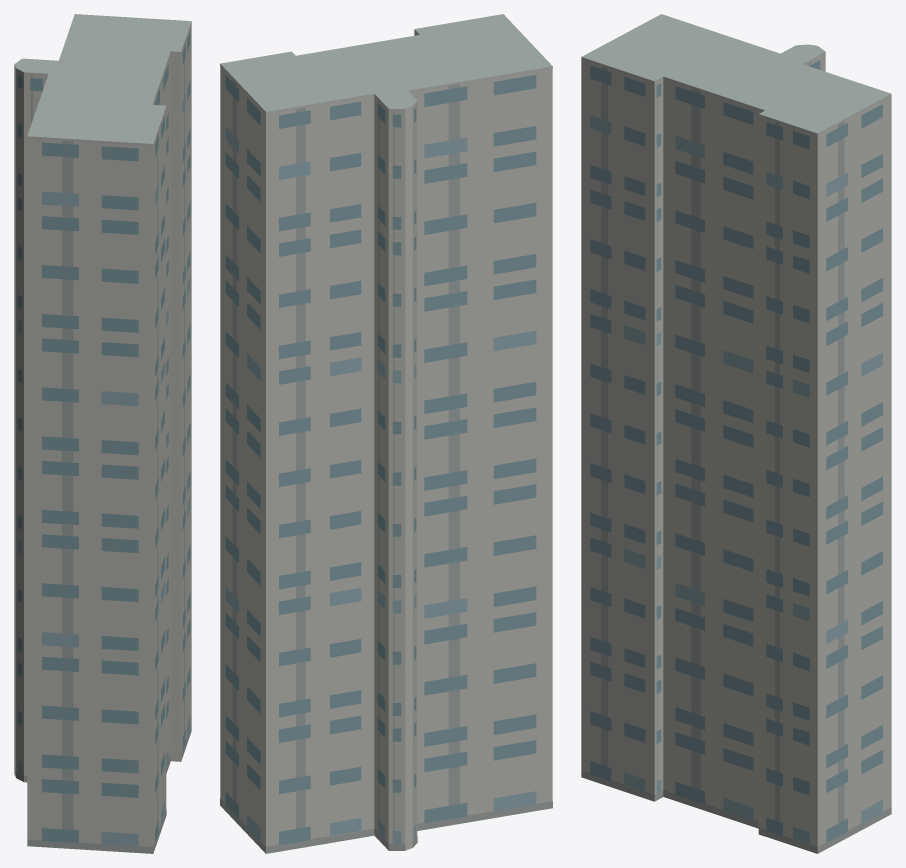
File: residential-b5e697b2-9a3e-42f7-9bd5-6f20c353f58c.glb
3 renders of one model, left to right at view 1: azimuth 30°, elevation 25°; view 2: azimuth 150°, elevation 25°; view 3: azimuth 270°, elevation 25°, orthographic. The views are drawn at different scales.
Visible parts, largest first — view 1: residential-b5e697b2-9a3e-42f7-9bd5-6f20c353f58c.tmp; view 2: residential-b5e697b2-9a3e-42f7-9bd5-6f20c353f58c.tmp; view 3: residential-b5e697b2-9a3e-42f7-9bd5-6f20c353f58c.tmp.
Boxes of the visible parts, x1,y1,x2,y2 form: residential-b5e697b2-9a3e-42f7-9bd5-6f20c353f58c.tmp: (14,14,191,853); residential-b5e697b2-9a3e-42f7-9bd5-6f20c353f58c.tmp: (220,14,552,853); residential-b5e697b2-9a3e-42f7-9bd5-6f20c353f58c.tmp: (581,14,891,853).
Bounding box in the file's own units: 28.83 × 81 × 31.62.
